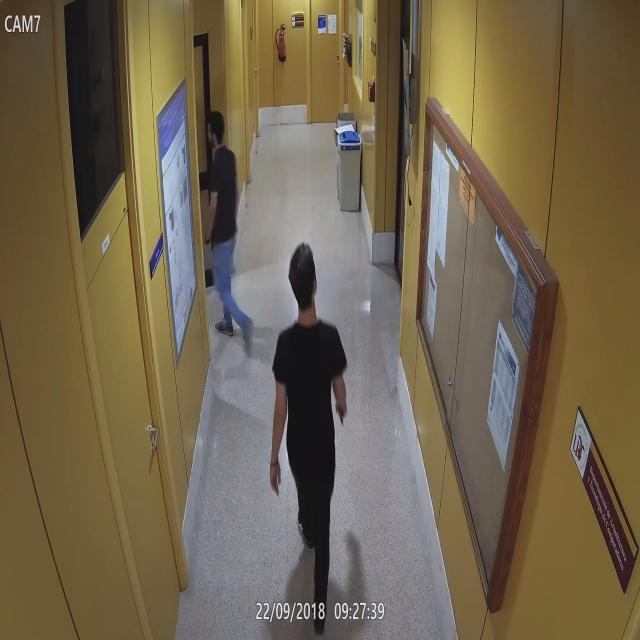Gun: (332, 396, 352, 437)
